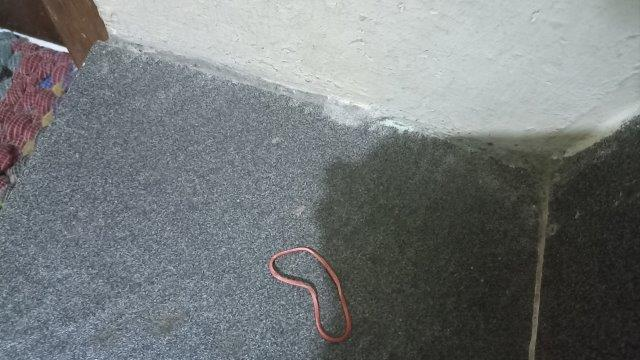karet: (269, 247, 352, 341)
